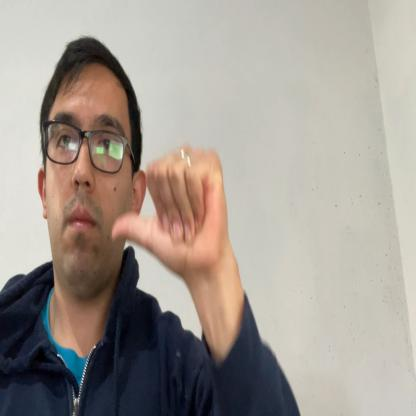A: (111, 146, 228, 276)
